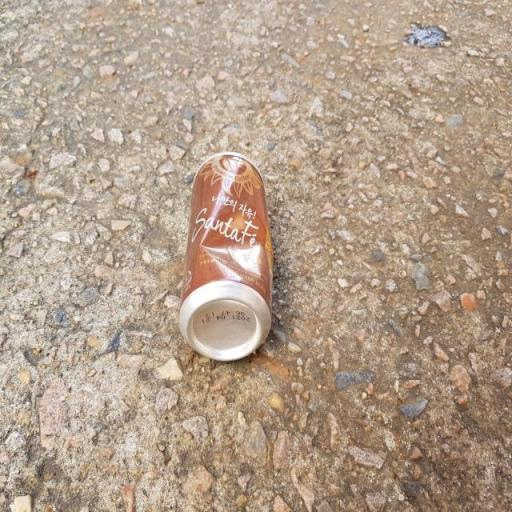metal: (171, 150, 283, 370)
